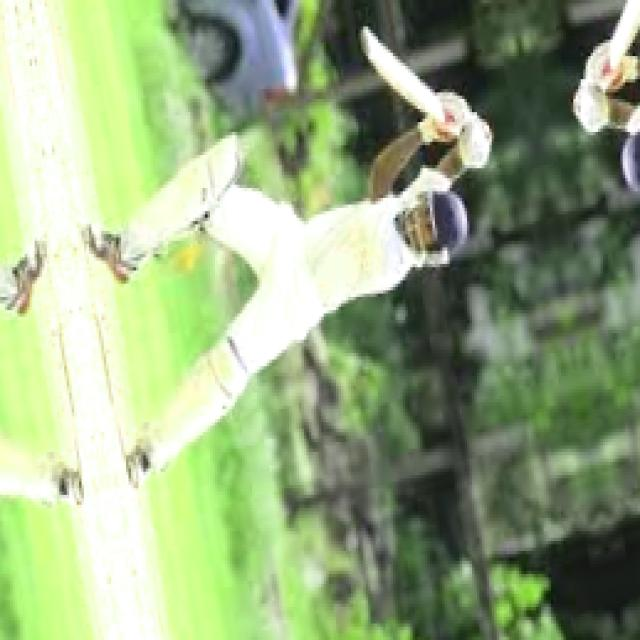toe: (352, 20, 396, 74)
